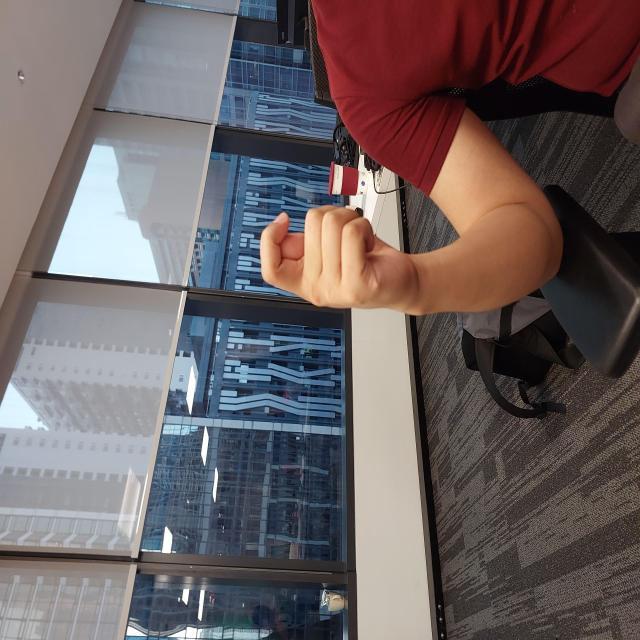T: (328, 258, 438, 420)
